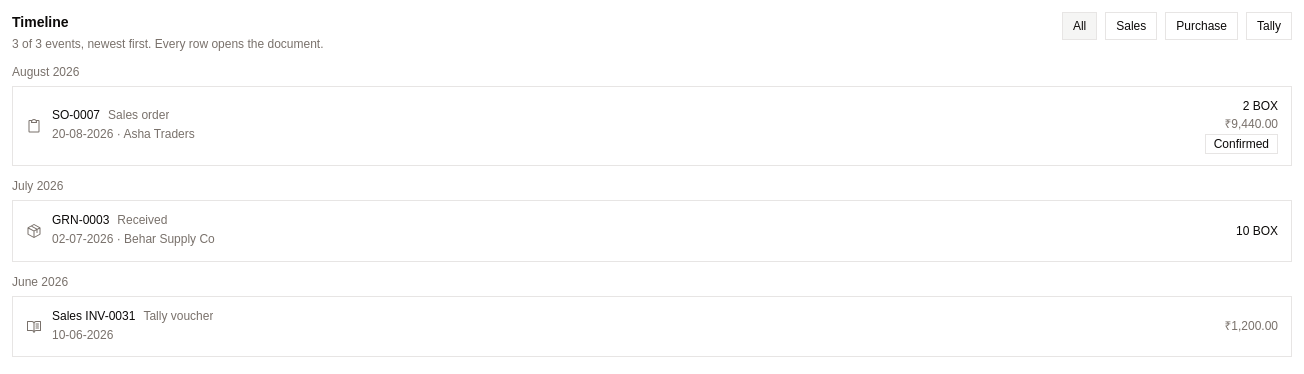
Scenario: LifecycleTimeline › groups by month, every row is a door, and the side filter narrows
The width and height of the screenshot is (1304, 374).
expect the heading "August 2026" is shown: met, box [12, 65, 79, 79]
expect the text "2 BOX" is shown: met, box [1243, 98, 1278, 114]
Click the button "Purchase": (1202, 26) [1165, 12, 1238, 40]
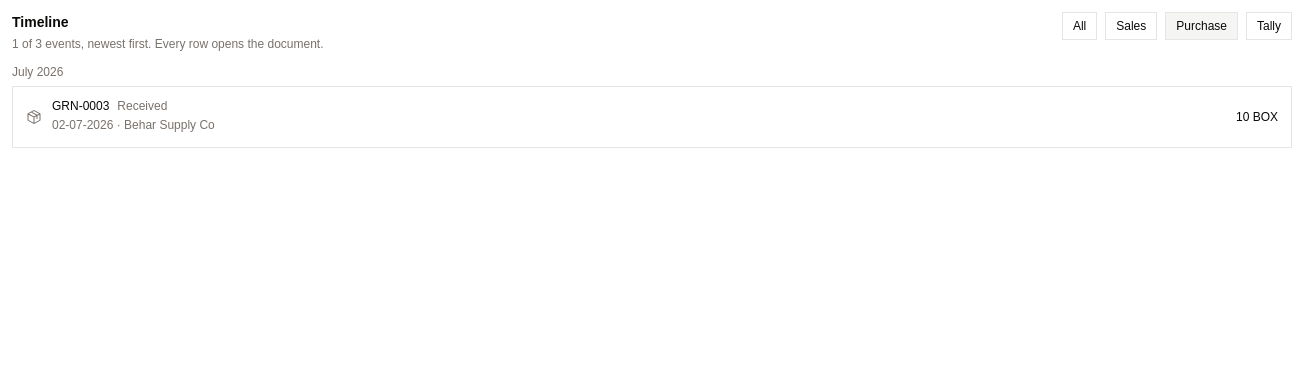
expect the text "GRN-0003" is shown: met, box [52, 98, 109, 114]
expect the list item "SO-0007" is gone: met
expect the text "1 of 3 events, newest first. Every row opens the document." is shown: met, box [12, 36, 324, 52]
